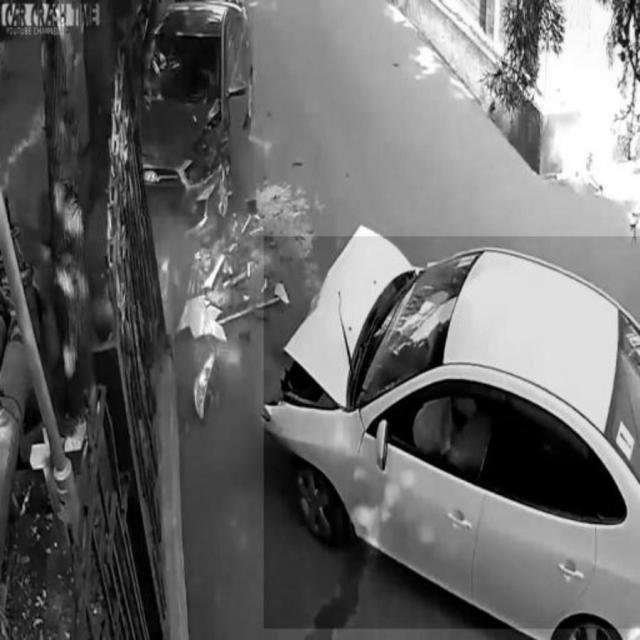vehicle: (264, 237, 640, 629), (142, 0, 254, 216)
